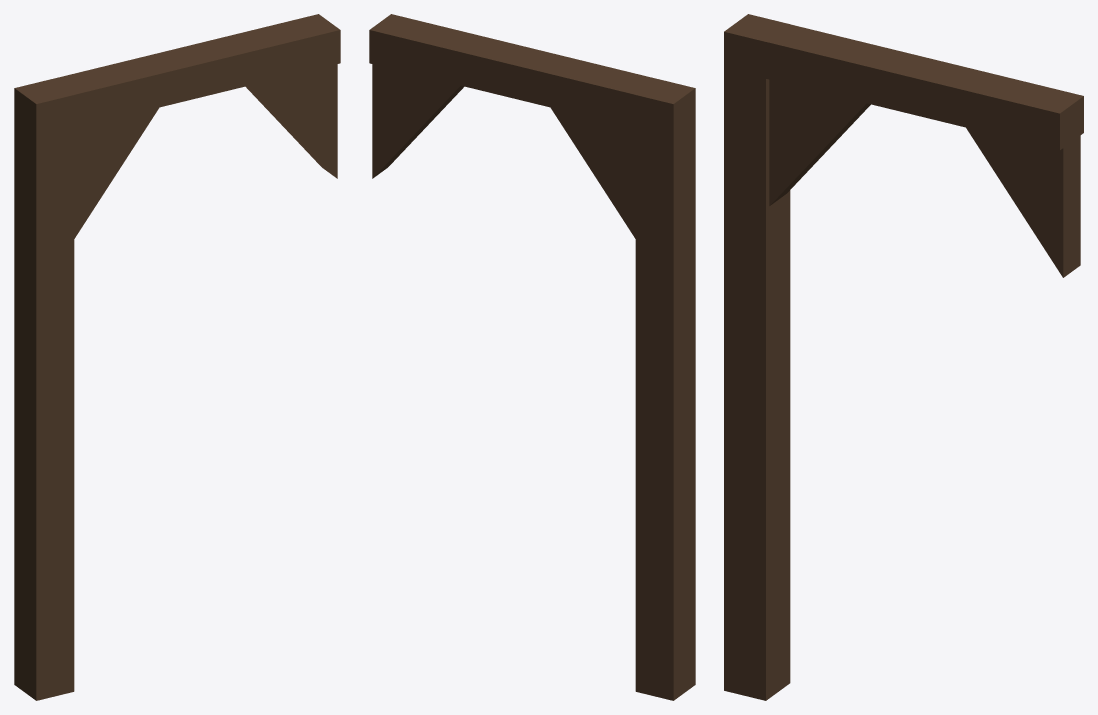
The model's file is open_stall_bay.glb.
3 renders of one model, left to right at view 1: azimuth 30°, elevation 25°; view 2: azimuth 150°, elevation 25°; view 3: azimuth 330°, elevation 25°, orthographic. The views are drawn at different scales.
Visible parts, largest first — view 1: Open stall bay; view 2: Open stall bay; view 3: Open stall bay.
Part boxes in pixels (x1,y1,x2,y2): Open stall bay: [14, 14, 340, 700]; Open stall bay: [369, 14, 695, 700]; Open stall bay: [724, 14, 1083, 700].
Size of the model in its own units: 1 by 1.88 by 0.125.
